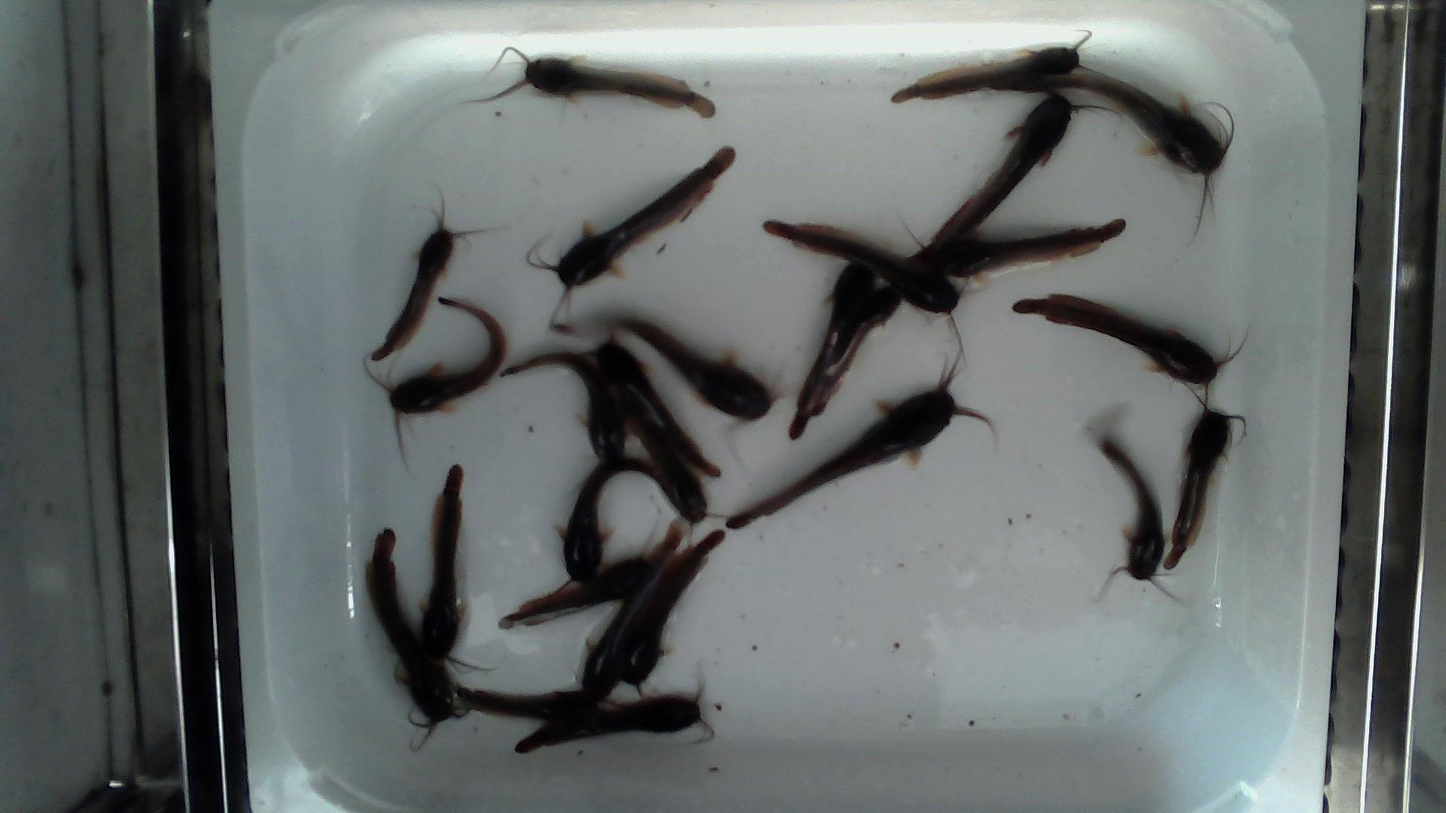lele: (725, 346, 991, 528), (993, 70, 1235, 247), (906, 88, 1122, 267), (526, 147, 734, 330), (764, 219, 968, 368), (1013, 294, 1249, 406), (369, 531, 471, 755), (369, 296, 506, 459), (582, 320, 721, 478), (604, 384, 730, 548), (513, 660, 715, 756), (581, 519, 684, 702), (620, 530, 724, 699), (370, 201, 477, 361), (474, 47, 715, 117), (617, 317, 773, 419), (1163, 385, 1248, 568), (789, 263, 875, 441), (893, 30, 1096, 105), (421, 465, 491, 673), (904, 217, 1127, 280), (498, 348, 623, 458), (1097, 434, 1178, 601), (808, 284, 902, 418), (563, 456, 663, 581), (497, 556, 651, 630), (455, 681, 601, 720)
